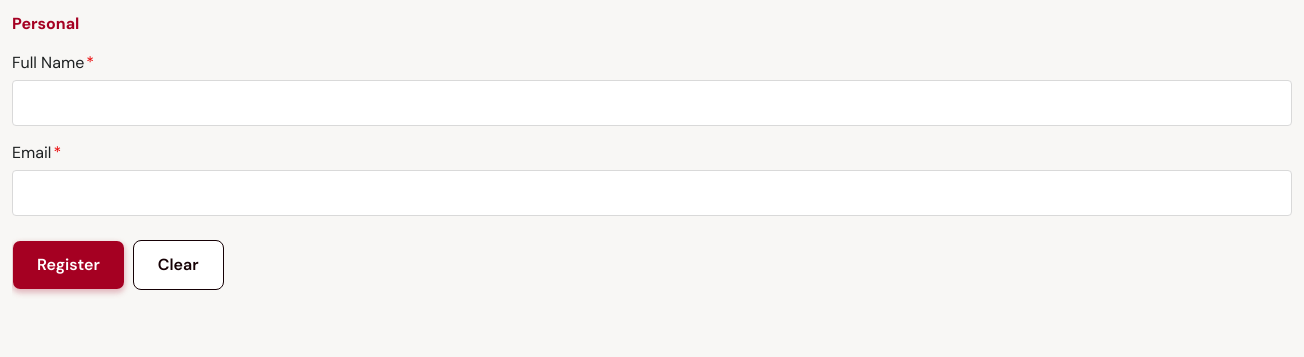
FormEngine › shows validation errors on empty submit
Click the button "Register" at (68, 265), box [12, 240, 125, 290]
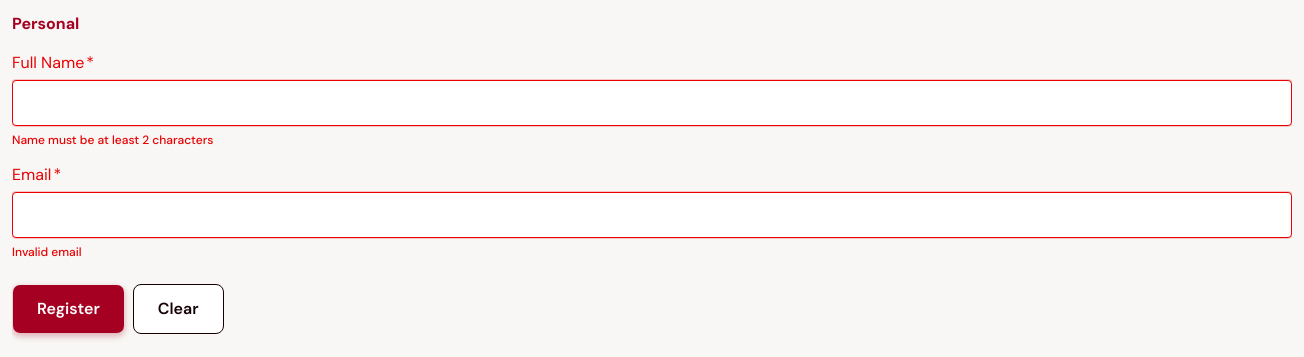
Expected: the text "Name must be at least 2 characters" is shown, [12, 132, 213, 148]
